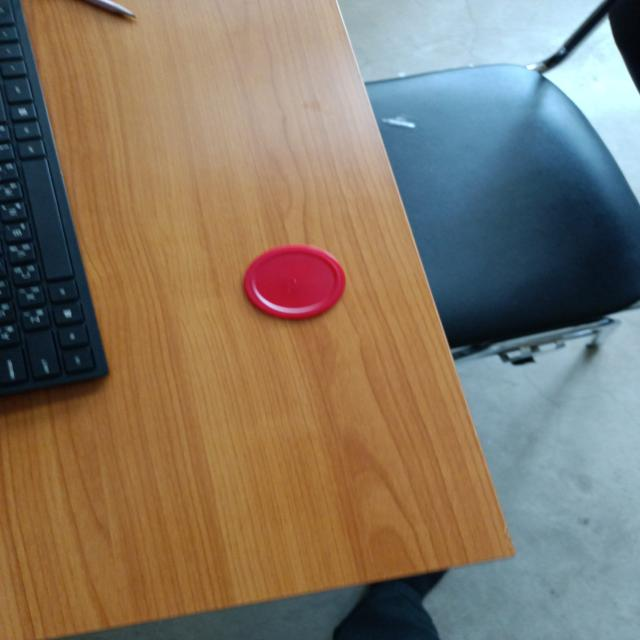chip: (241, 242, 347, 320)
